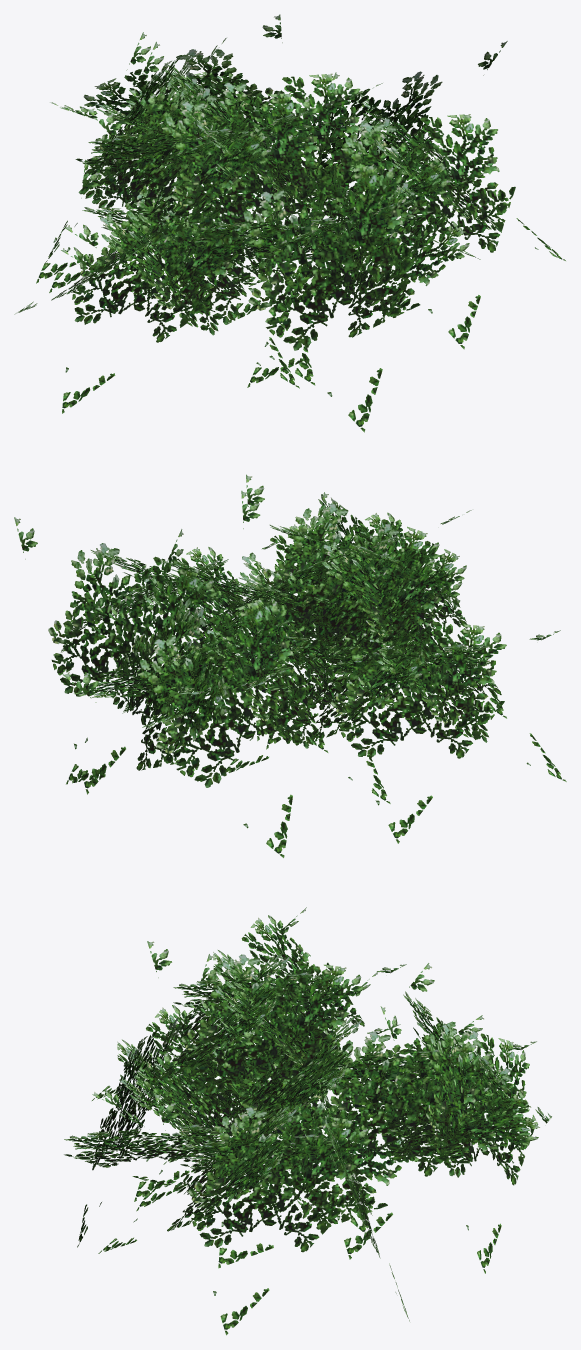
Rendered from flora_tree_bush_steppe_01.glb.
The picture shows the model from 3 angles, top to bottom: view 1: azimuth 30°, elevation 25°; view 2: azimuth 150°, elevation 25°; view 3: azimuth 270°, elevation 25°; orthographic projection. The views are drawn at different scales.
Visible parts, largest first — view 1: flora_tree_bush_steppe_01_part0; view 2: flora_tree_bush_steppe_01_part0; view 3: flora_tree_bush_steppe_01_part0.
Part boxes in pixels (x1=…): flora_tree_bush_steppe_01_part0: x1=14, y1=14, x2=565, y2=432; flora_tree_bush_steppe_01_part0: x1=14, y1=474, x2=566, y2=857; flora_tree_bush_steppe_01_part0: x1=64, y1=907, x2=551, y2=1335.
Bounding box in the file's own units: 12.58 × 6.68 × 12.04.
Materials: 1 (1 with a texture image).
